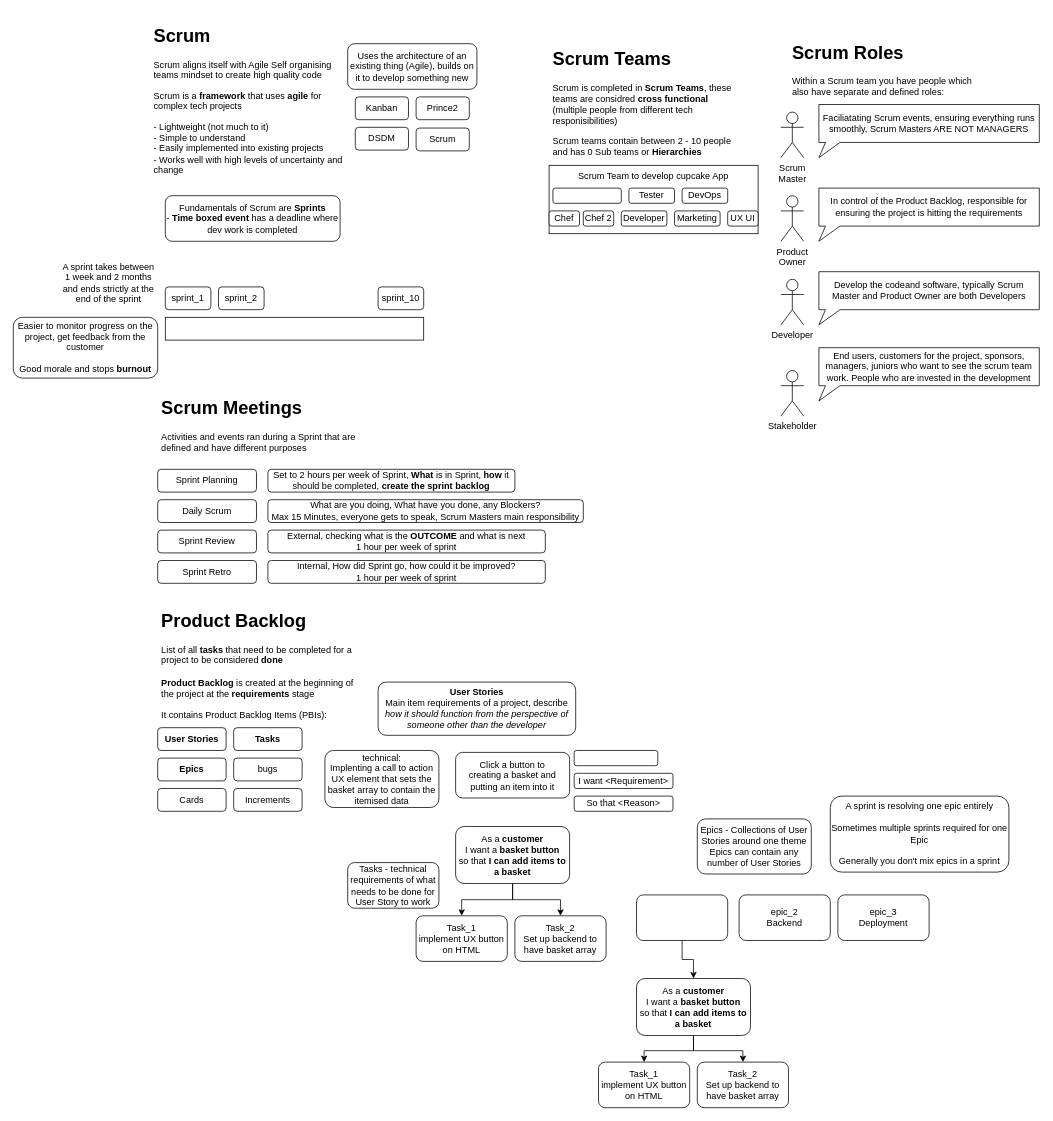
The diagram is 1053 pixels wide and 1121 high, and some of its shapes have lost their labels. The shapes that lost their labels are listed below. From the top down, each one's centre as x and y in pixels, then its label:
At point (586, 195): "Food Scientist".
At point (294, 328): "1 year project".
At point (615, 758): "As a <persona>".
At point (682, 917): "epic_1 Frontend".
